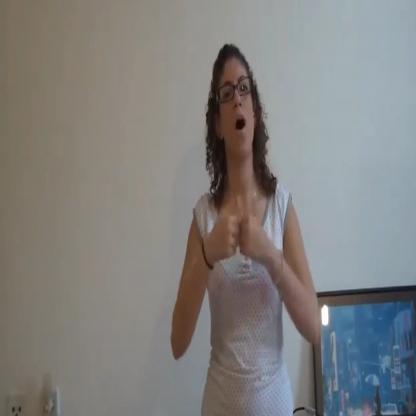HowAreYou: (195, 198, 274, 290)
